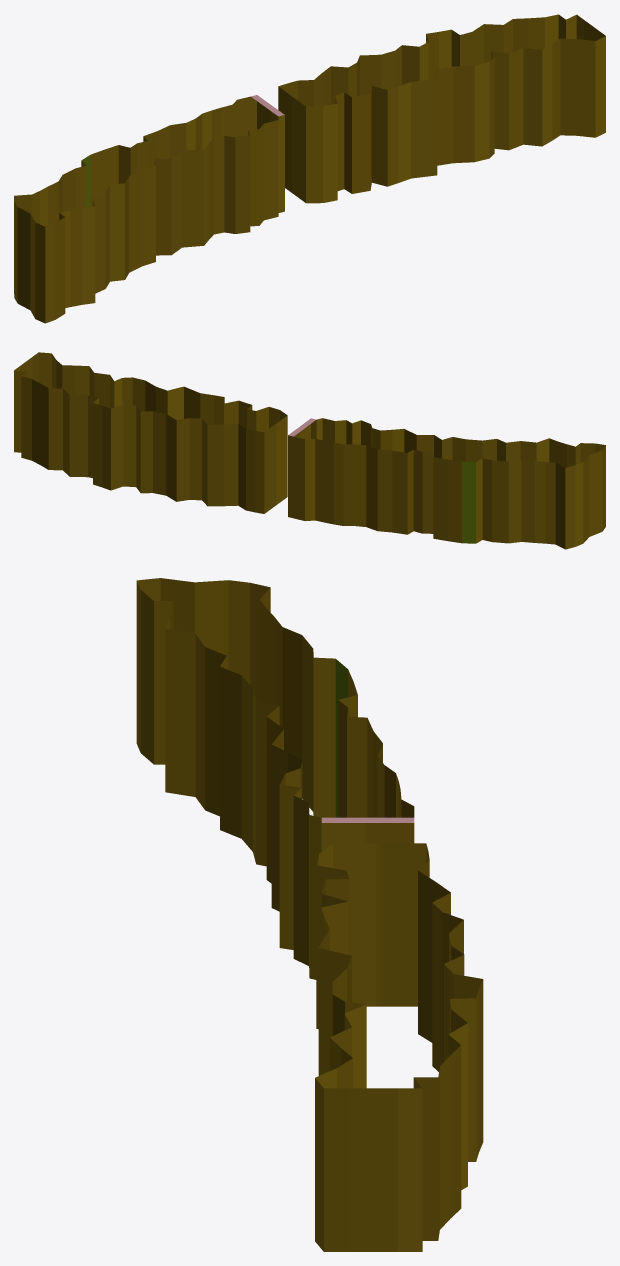
The model's file is tutorial-camp-rivercollision.fbx.
The picture shows the model from 3 angles, top to bottom: view 1: azimuth 30°, elevation 25°; view 2: azimuth 150°, elevation 25°; view 3: azimuth 270°, elevation 25°; orthographic projection. The views are drawn at different scales.
Visible parts, largest first — view 1: ground.001; view 2: ground.001; view 3: ground.001.
Boxes of the visible parts, bbox=[...] form: ground.001: bbox=[14, 14, 605, 323]; ground.001: bbox=[14, 352, 605, 549]; ground.001: bbox=[136, 578, 483, 1251].
Size of the model in its own units: 13084 by 6814 by 45616.
